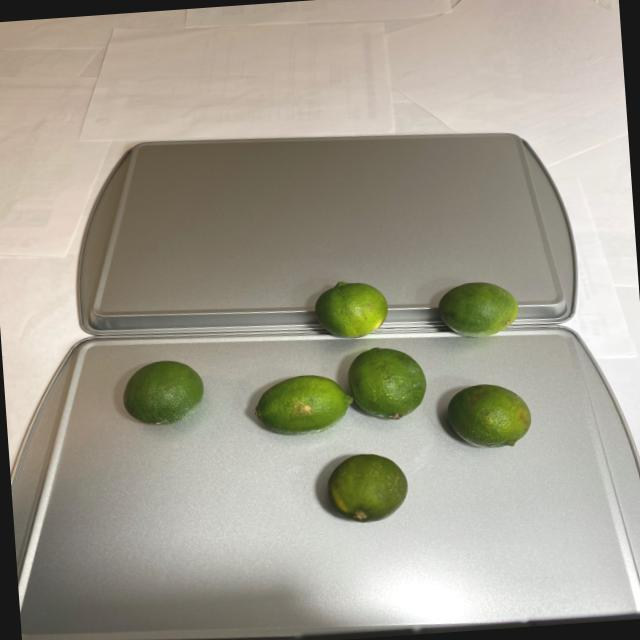lemon: (110, 267, 536, 544)
